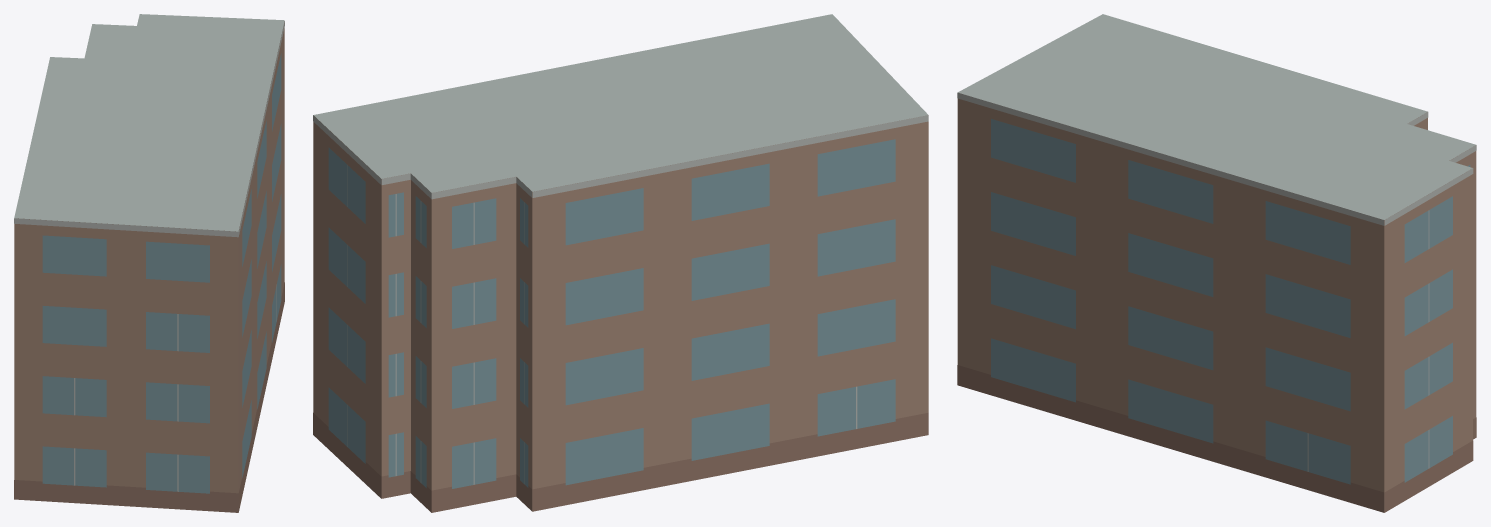
File: survey-upis-32819870.glb
3 renders of one model, left to right at view 1: azimuth 30°, elevation 25°; view 2: azimuth 150°, elevation 25°; view 3: azimuth 270°, elevation 25°, orthographic. The views are drawn at different scales.
Parts seen in each view (by area): view 1: survey-upis-32819870.tmp; view 2: survey-upis-32819870.tmp; view 3: survey-upis-32819870.tmp.
Part boxes in pixels (x1,y1,x2,y2): survey-upis-32819870.tmp: (14, 14, 284, 512); survey-upis-32819870.tmp: (313, 14, 928, 512); survey-upis-32819870.tmp: (957, 14, 1476, 512).
Bounding box in the file's own units: 18.43 × 12.2 × 19.61.
